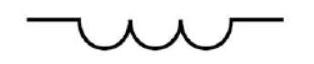inductor: (60, 4, 252, 54)
